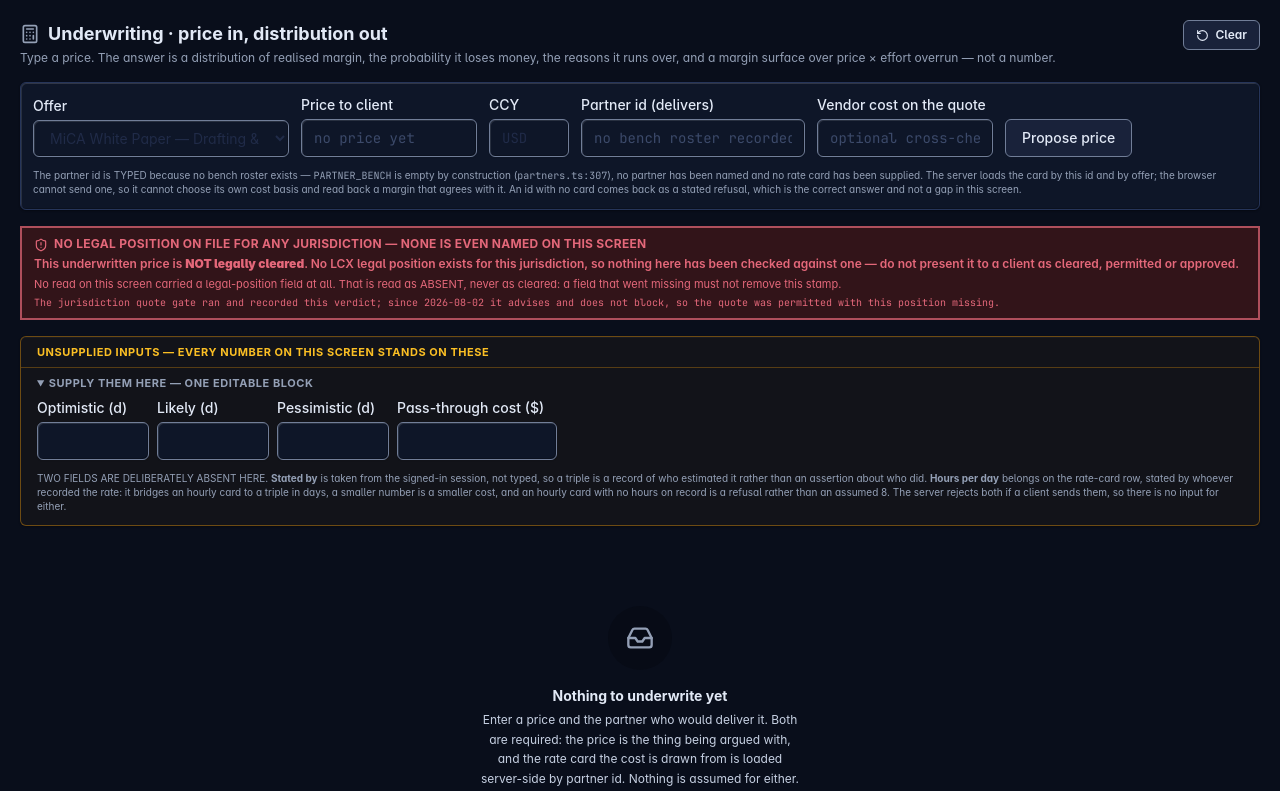
Scenario: a loss-making price › BLOCKS the issue control — disabled, not merely discouraged
In the field with test id "price-input": (389, 138) [301, 119, 477, 157], type "10000"
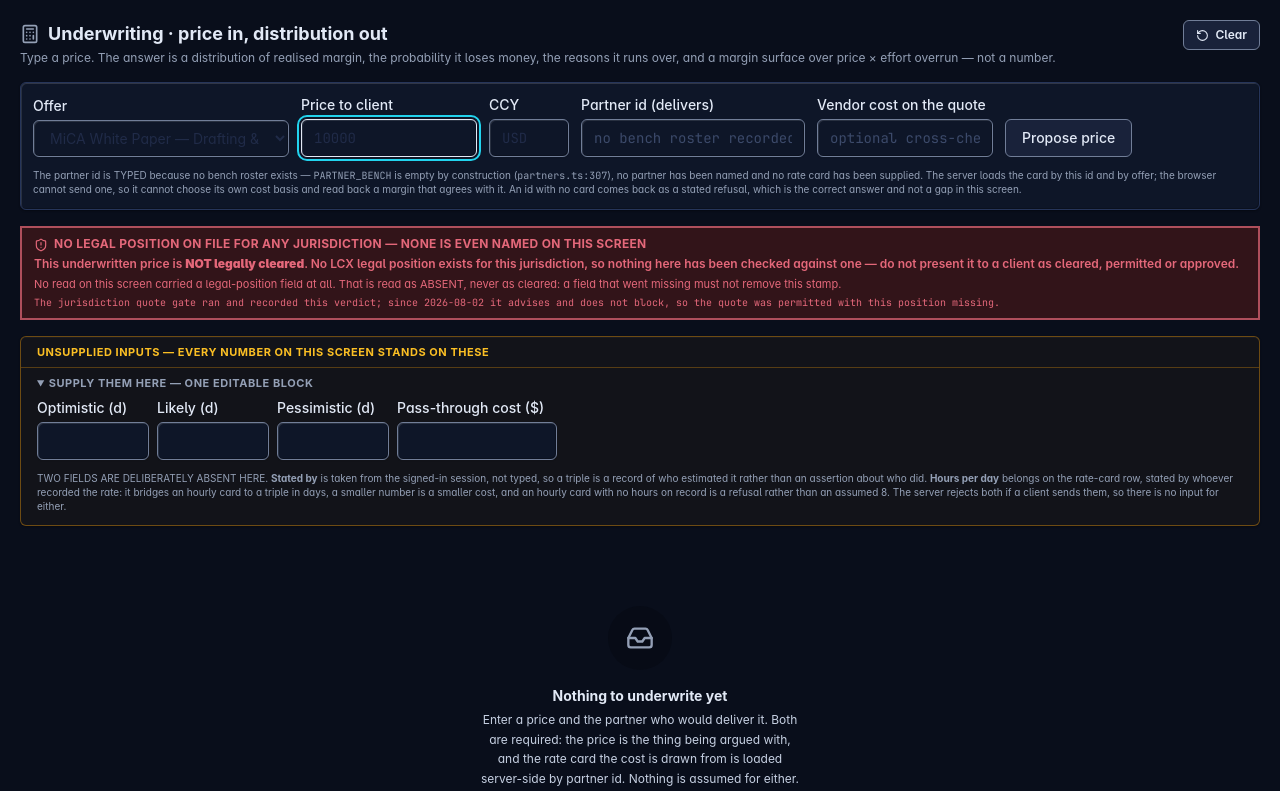
In the field with test id "partner-input": (693, 138) [581, 119, 805, 157], type "partner-1"
(page scrolled)
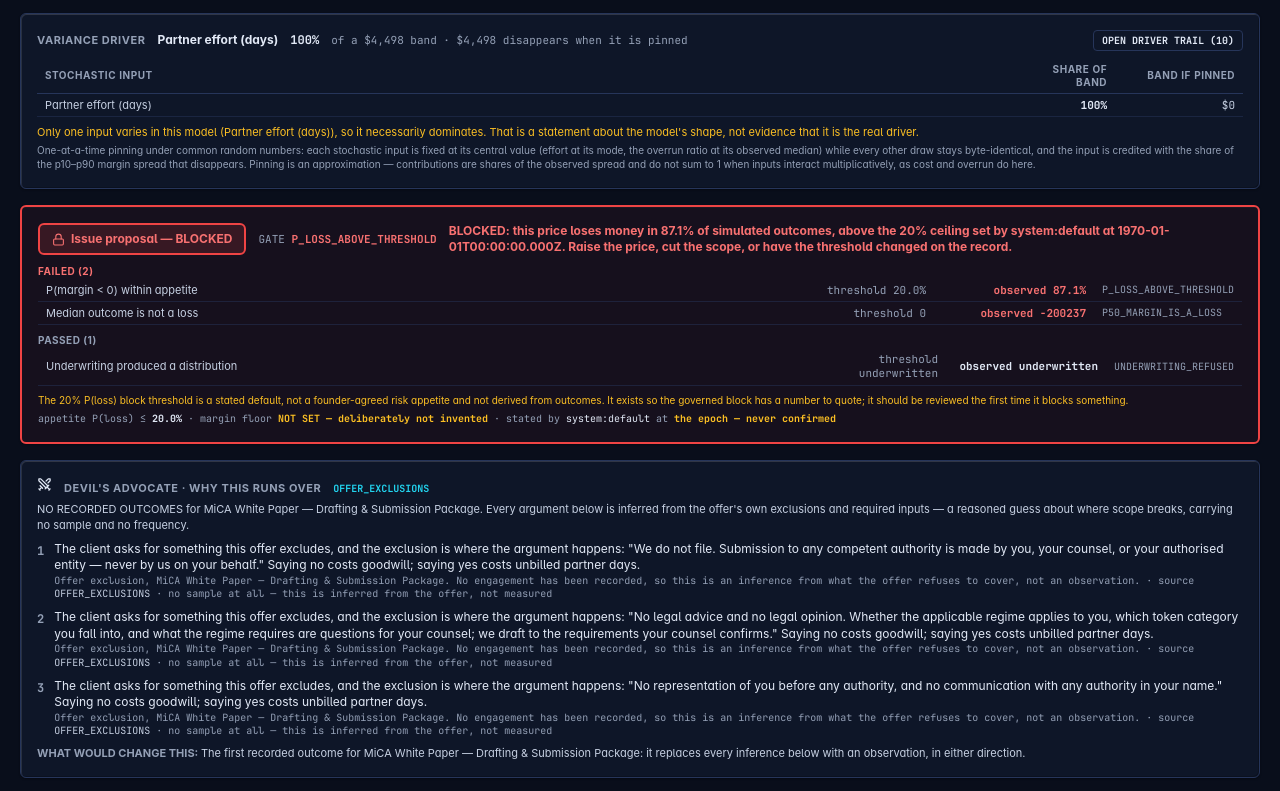
Check: the button with test id "issue-control" is disabled, box [38, 223, 246, 255]
Check: the button with test id "issue-control" shows "BLOCKED", box [38, 223, 246, 255]
Check: the text with test id "issue-code" reads "p_loss_above_threshold", box [292, 232, 437, 246]
